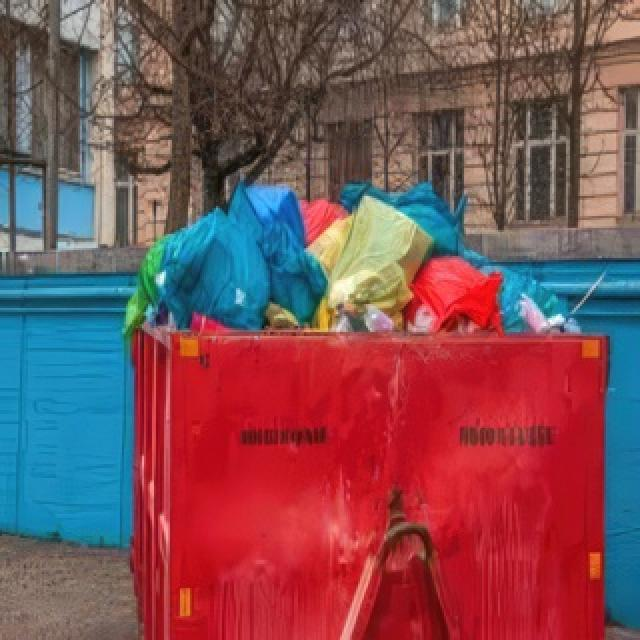high trash: (125, 182, 579, 334)
